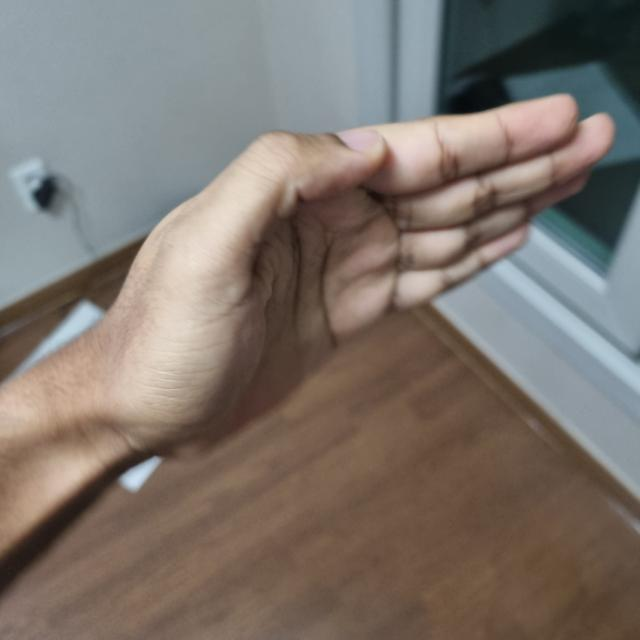Paper: (86, 102, 608, 456)
